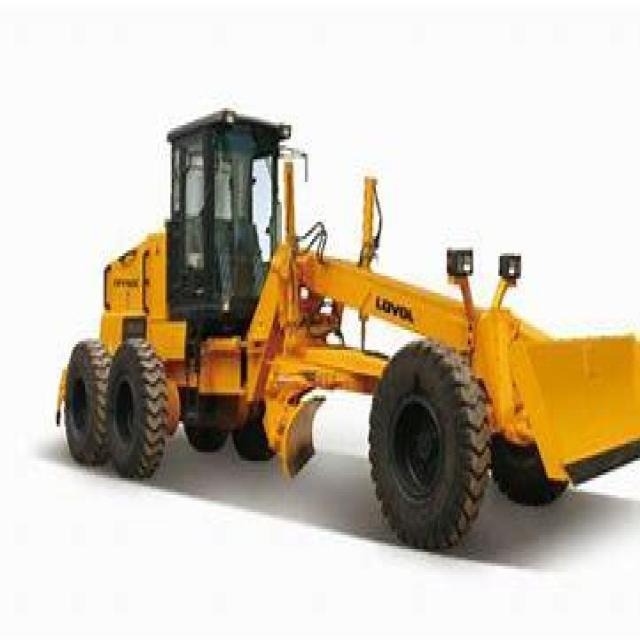buldozerpayloadergrader: (46, 91, 637, 546)
